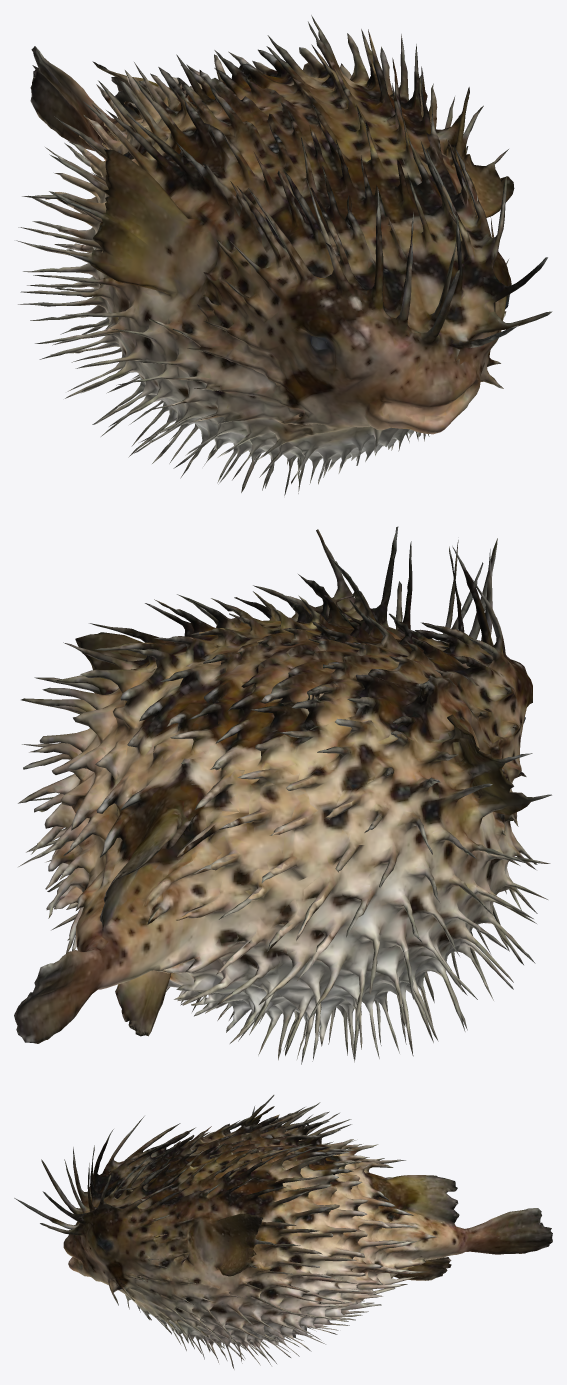
File: harisen.glb
The picture shows the model from 3 angles, top to bottom: view 1: azimuth 30°, elevation 25°; view 2: azimuth 150°, elevation 25°; view 3: azimuth 270°, elevation 25°; orthographic projection. The views are drawn at different scales.
Visible parts, largest first — view 1: Object_6.001; view 2: Object_6.001; view 3: Object_6.001.
Part boxes in pixels (x1,y1,x2,y2): Object_6.001: (16,15,552,495); Object_6.001: (14,526,551,1064); Object_6.001: (14,1095,552,1369).
Bounding box in the file's own units: 2.33 × 1.88 × 4.
Materials: 1 (1 with a texture image).
